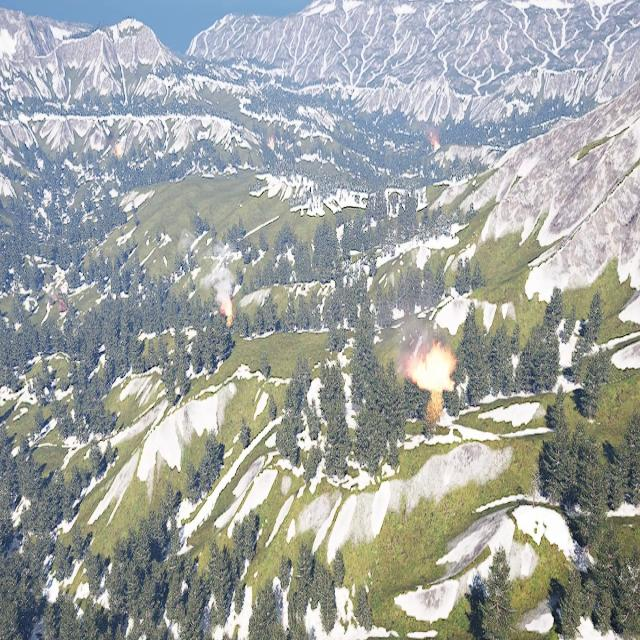fire: (411, 348, 453, 393), (222, 302, 234, 325), (114, 145, 123, 158), (431, 139, 440, 151), (268, 138, 276, 151)
smoke: (199, 243, 235, 304), (425, 118, 438, 144)
